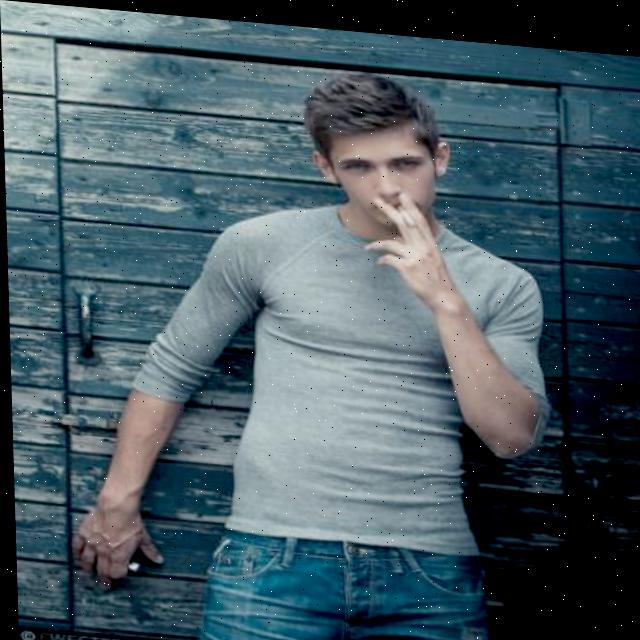cigarette: (392, 196, 416, 220)
